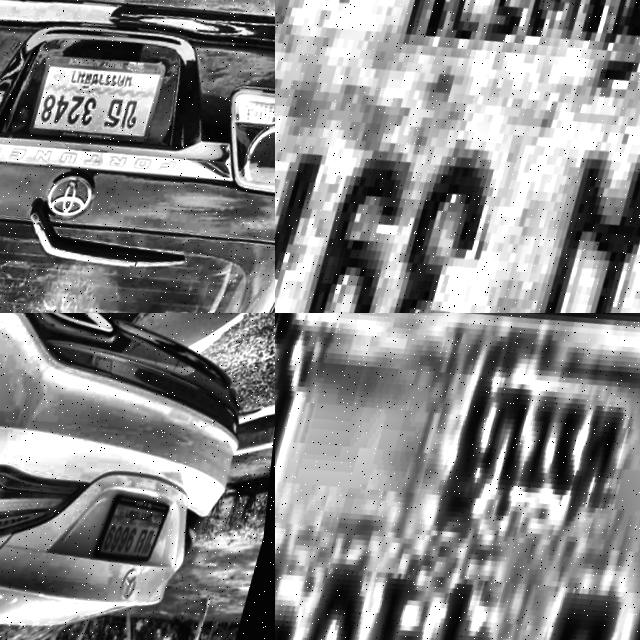license-plate: (275, 313, 640, 640), (275, 0, 640, 313), (30, 46, 175, 163), (102, 502, 176, 578)
